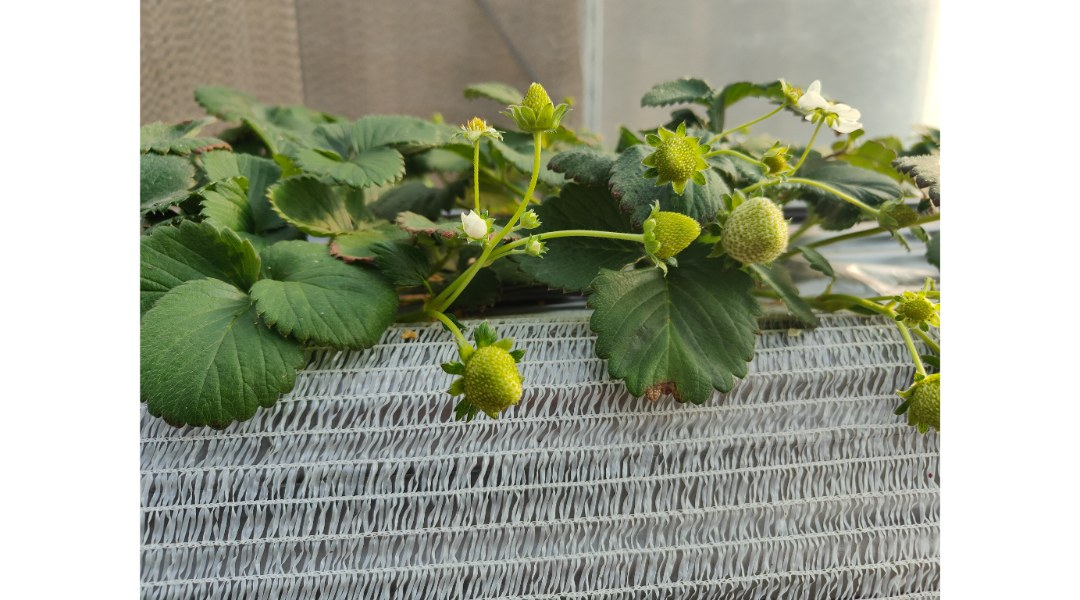berry: (449, 327, 534, 418), (717, 200, 790, 271), (632, 205, 703, 266), (649, 125, 706, 198), (502, 78, 568, 139)
flower: (790, 79, 871, 134), (456, 200, 489, 248), (516, 211, 547, 234), (522, 238, 551, 261)
strain: (556, 221, 642, 244), (530, 132, 541, 203)
